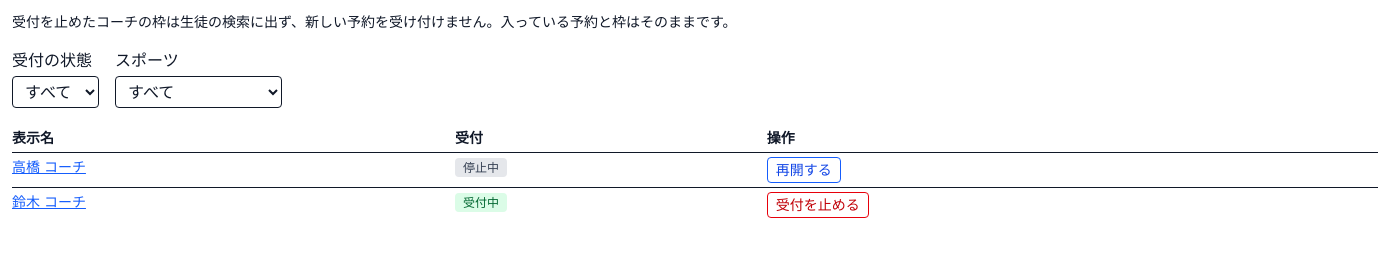
Test: 本部のコーチの受付 › 再開を確定したら resumeCoach を送り、行を「受付中」にして「受付を止める」にする
This screenshot has width=1378, height=275.
Click the button "再開する" at (804, 170), box [767,157,841,183]
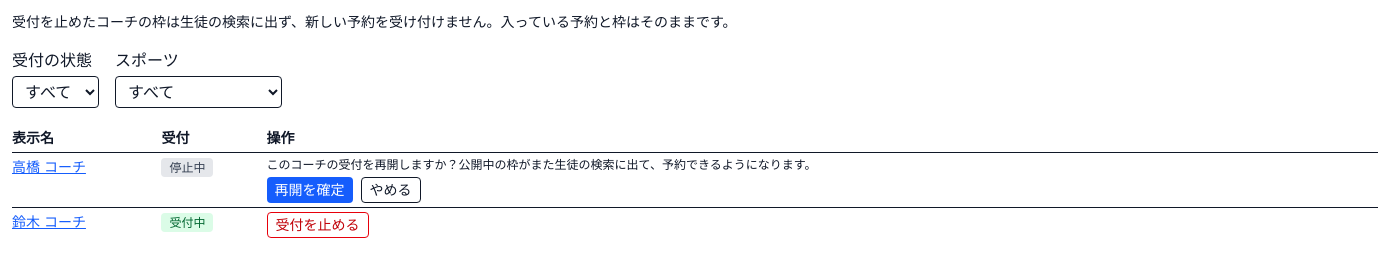
Check: the element named "コーチの受付の確認" shows "このコーチの受付を再開しますか？", box [266,157,816,172]
Click the button "再開を確定" at (310, 190), box [266,177,352,203]
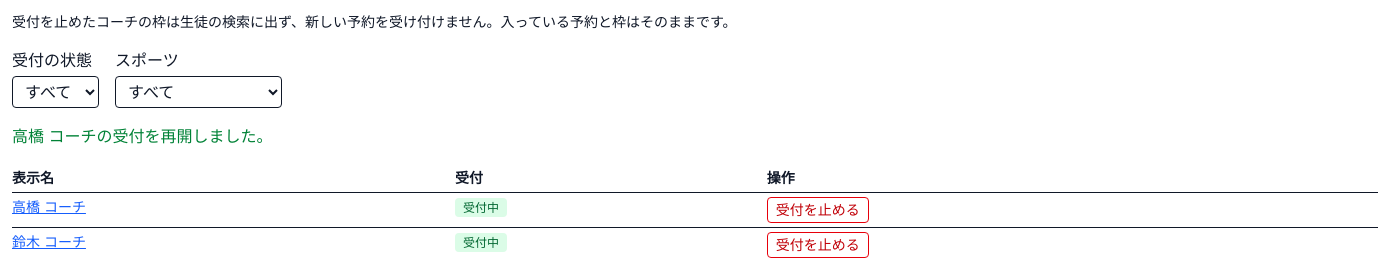
Check: the message reads "高橋 コーチの受付を再開しました。", box [12,126,272,146]
Check: the 1st button "受付を止める" is shown, box [767,197,869,223]
